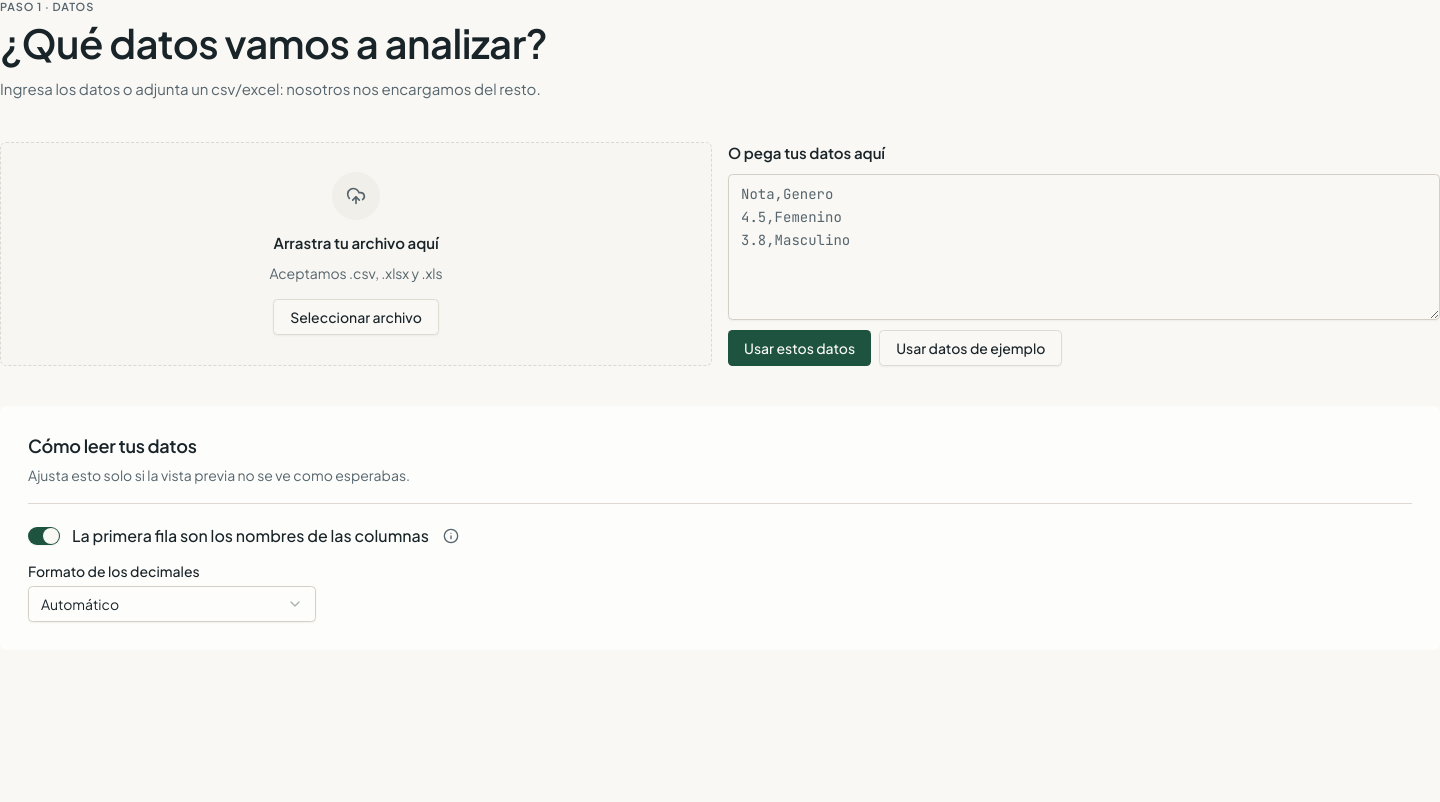
it: StepData › carga los datos de ejemplo con un solo clic
Step 1. Click the button "Usar datos de ejemplo" → (971, 348), box [879,330,1062,366]
(page scrolled)
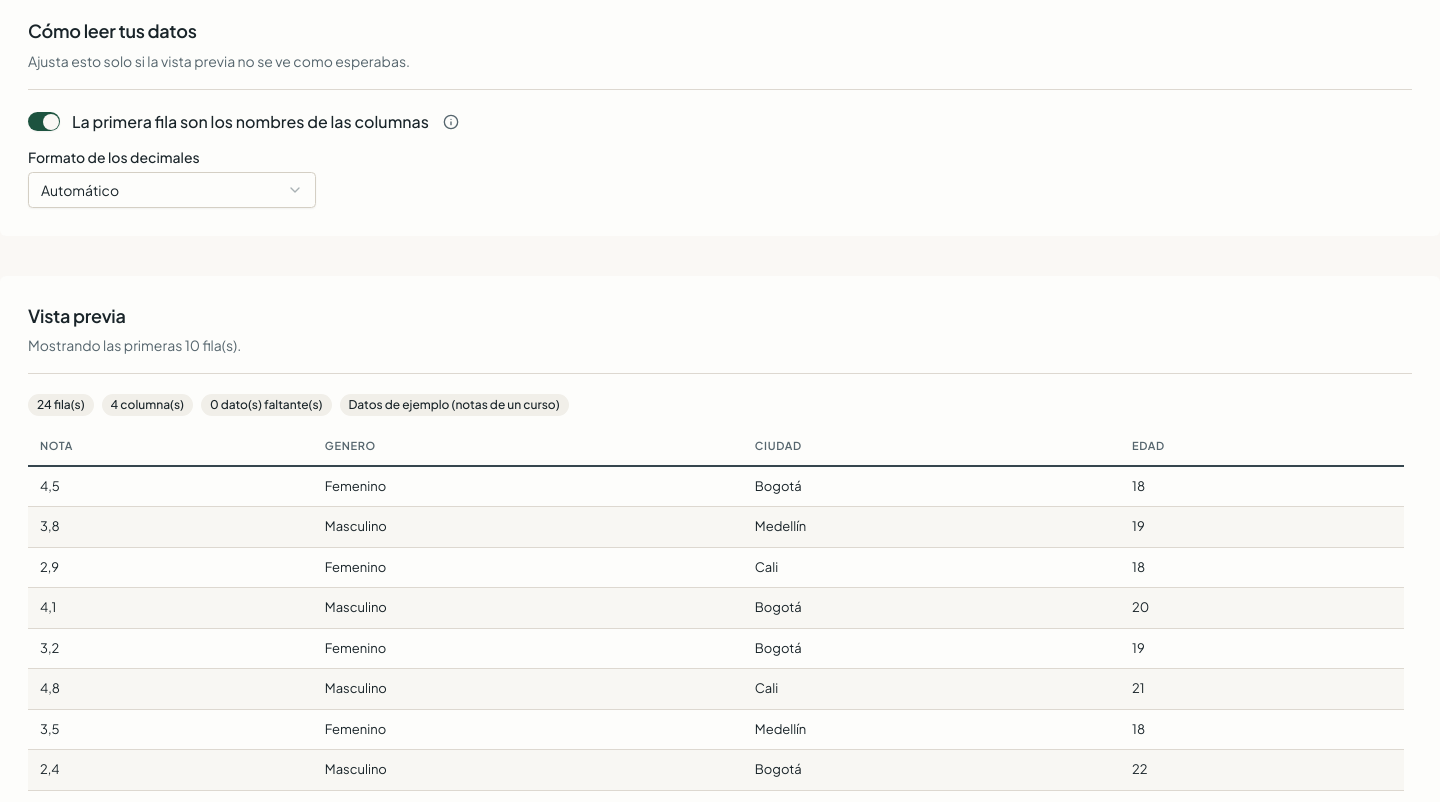
Now the text "24 fila(s)" is shown, box [28,394,94,416]
Now the text "4 columna(s)" is shown, box [102,394,193,416]
